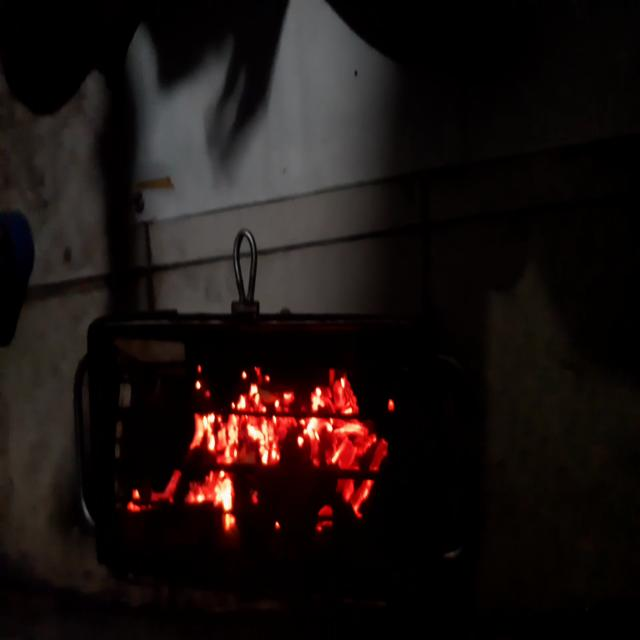Fire: (122, 372, 402, 554)
